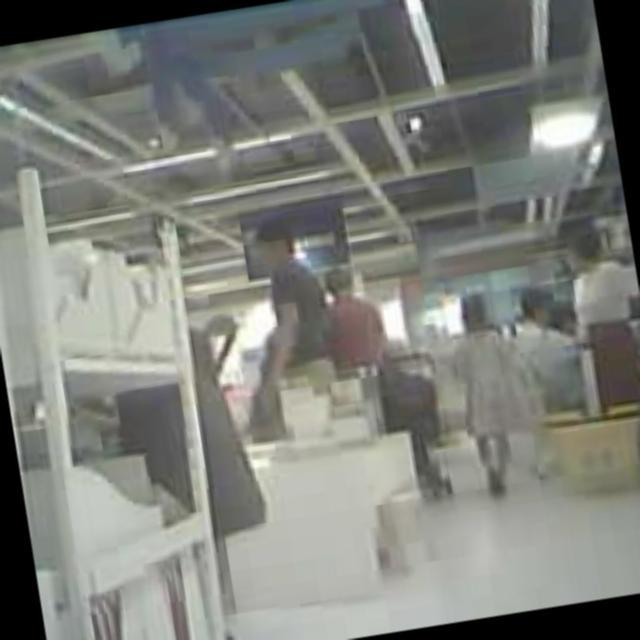person: (442, 289, 548, 501), (224, 218, 337, 410), (563, 225, 640, 404), (506, 272, 591, 418), (316, 260, 395, 380)
